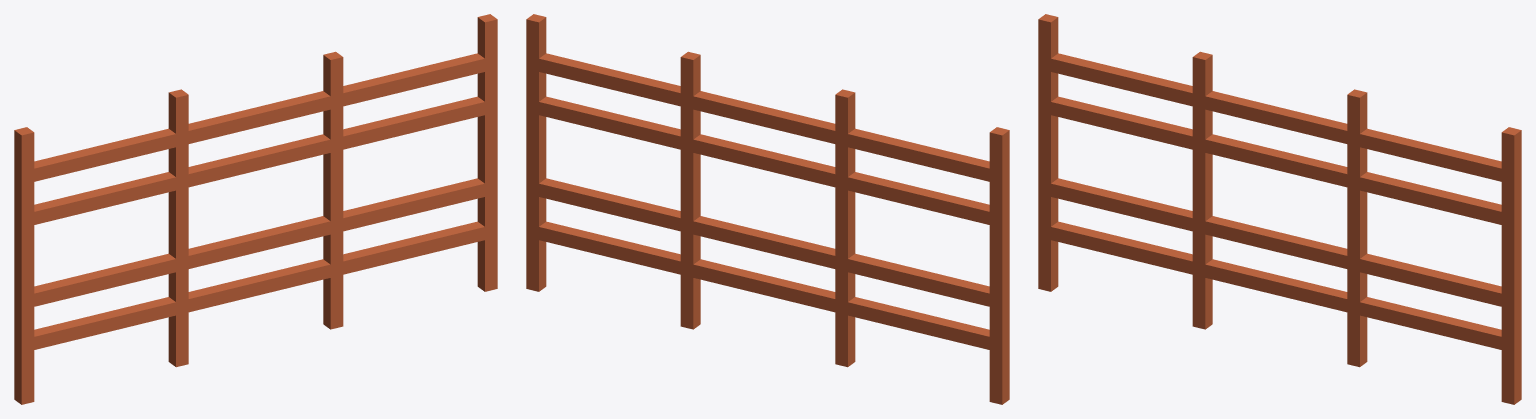
Rendered from fence_5.glb.
3 renders of one model, left to right at view 1: azimuth 30°, elevation 25°; view 2: azimuth 150°, elevation 25°; view 3: azimuth 330°, elevation 25°, orthographic.
Parts seen in each view (by area): view 1: Fence5; view 2: Fence5; view 3: Fence5.
Part boxes in pixels (<box>): Fence5: <box>14,14,497,404</box>; Fence5: <box>526,14,1009,404</box>; Fence5: <box>1038,14,1521,404</box>.
Bounding box in the file's own units: 3.12 × 1.69 × 0.0832.
1 material, 1 textured.
